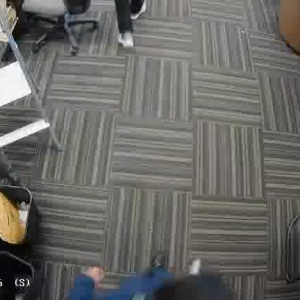person: (105, 0, 145, 44)
